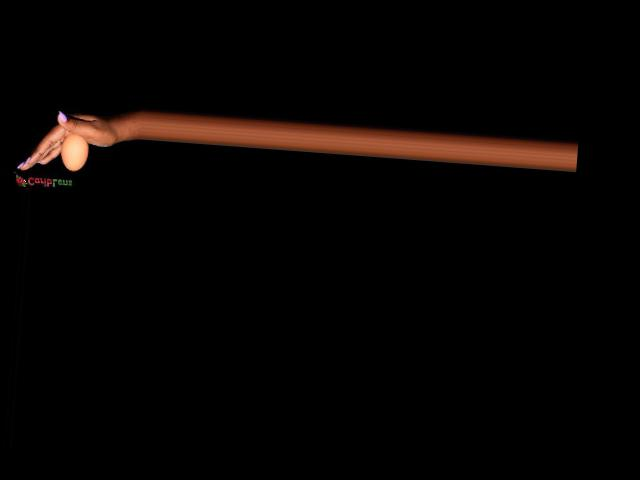egg: (59, 133, 90, 172)
